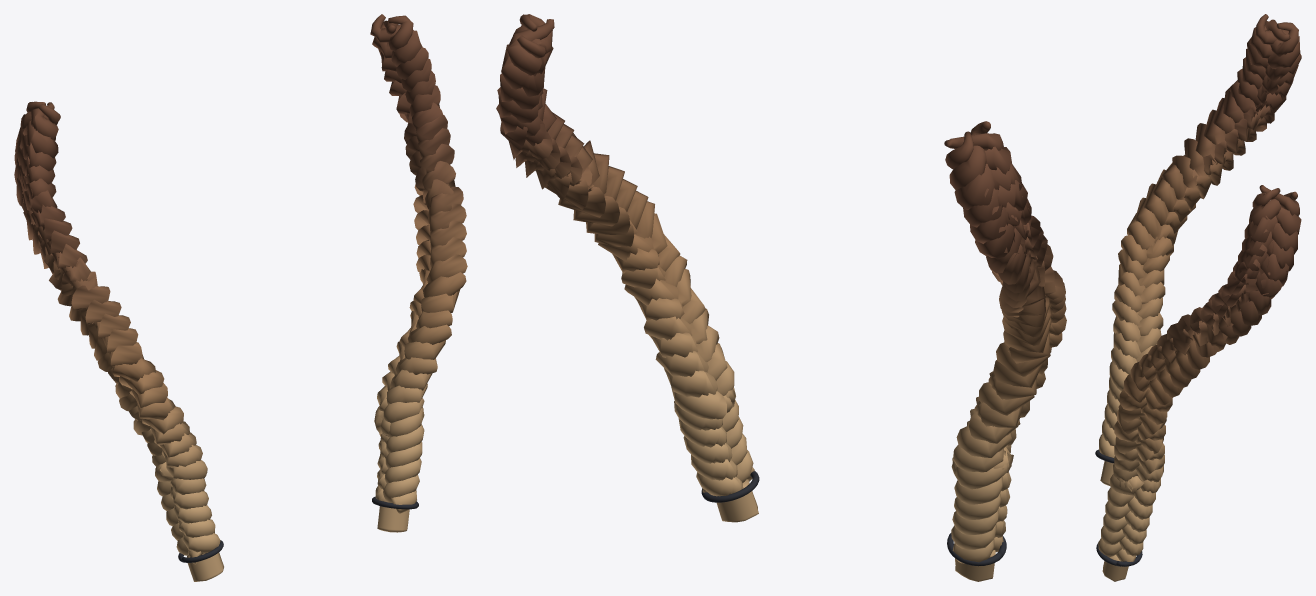
The model's file is Ombre-3e99e4fdd102253-hair.glb.
3 renders of one model, left to right at view 1: azimuth 30°, elevation 25°; view 2: azimuth 150°, elevation 25°; view 3: azimuth 270°, elevation 25°, orthographic. The views are drawn at different scales.
Parts seen in each view (by area): view 1: 226 hairLengths / Hair / chestnut226, 226 hairLengths / Hair / ties226; view 2: 226 hairLengths / Hair / chestnut226, 226 hairLengths / Hair / ties226; view 3: 226 hairLengths / Hair / chestnut226, 226 hairLengths / Hair / ties226.
Boxes of the visible parts, x1,y1,x2,y2 form: 226 hairLengths / Hair / chestnut226: (14, 14, 467, 581); 226 hairLengths / Hair / ties226: (178, 496, 418, 562); 226 hairLengths / Hair / chestnut226: (496, 14, 1066, 581); 226 hairLengths / Hair / ties226: (701, 471, 1006, 566); 226 hairLengths / Hair / chestnut226: (1098, 14, 1301, 581); 226 hairLengths / Hair / ties226: (1095, 449, 1142, 566).
Size of the model in its own units: 1.03 by 1.05 by 0.4585.
2 materials, 1 textured.
